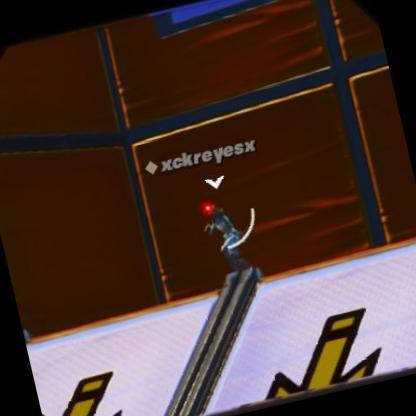person: (194, 197, 253, 283)
